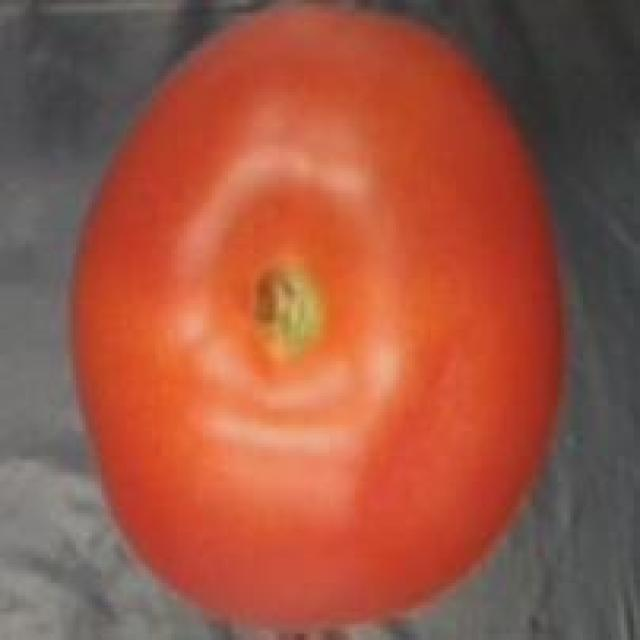ripe tomato: (57, 0, 580, 640)
